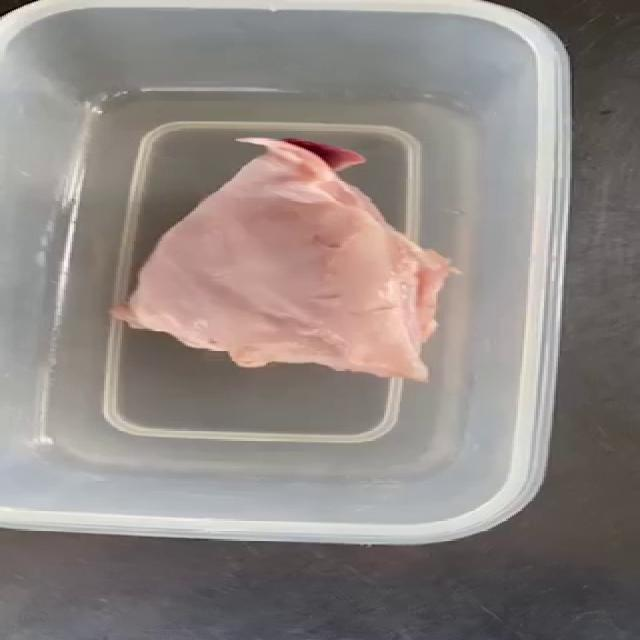chicken: (102, 137, 442, 376)
